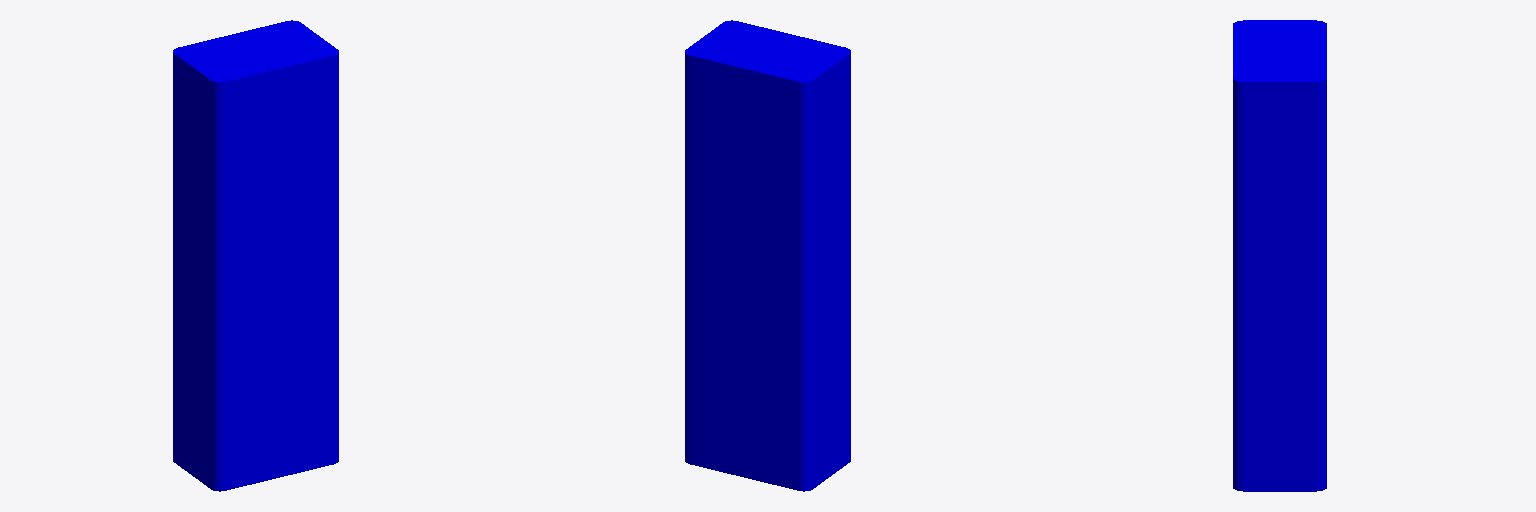
robot.urdf — board3_block5:
<?xml version="1.0"?>
<robot name="board3_block5">
    <link name="board3_block5">
        <visual>
            <origin xyz="0 0 0 " rpy=" 0 0 0"/>
            <geometry>
                <mesh filename="../meshes/SIMO_Board3_Block5.stl" scale="0.001 0.001 0.001"/>
            </geometry>
            <material name="red">
                <color rgba="0.0 0.0 1.0 1.0"/>
            </material>
        </visual>
        <collision>
            <origin xyz="0 0 0" rpy="0 0 0"/>
            <geometry>
                <mesh filename="../meshes/SIMO_Board3_Block5.stl" scale="0.001 0.001 0.001"/>
            </geometry>
        </collision>
    </link>
</robot>

--- What the picture shows (computed from the rendered views, not written in the file) ---
The picture shows the robot from 3 angles, left to right: view 1: azimuth 30°, elevation 25°; view 2: azimuth 150°, elevation 25°; view 3: azimuth 270°, elevation 25°; orthographic projection.
Model board3_block5 with 1 links and 0 joints (none), rooted at board3_block5, posed every joint at zero.
Visible links, largest first — view 1: board3_block5; view 2: board3_block5; view 3: board3_block5.
Link boxes in pixels (<box>): board3_block5: <box>173,20,338,491</box>; board3_block5: <box>685,20,850,491</box>; board3_block5: <box>1233,20,1326,491</box>.
Size in the robot's own frame: 0.0324 by 0.0208 by 0.1 metres.
Meshes: 1 distinct files referenced, 1 mesh visuals loaded (1 ASCII STL).
